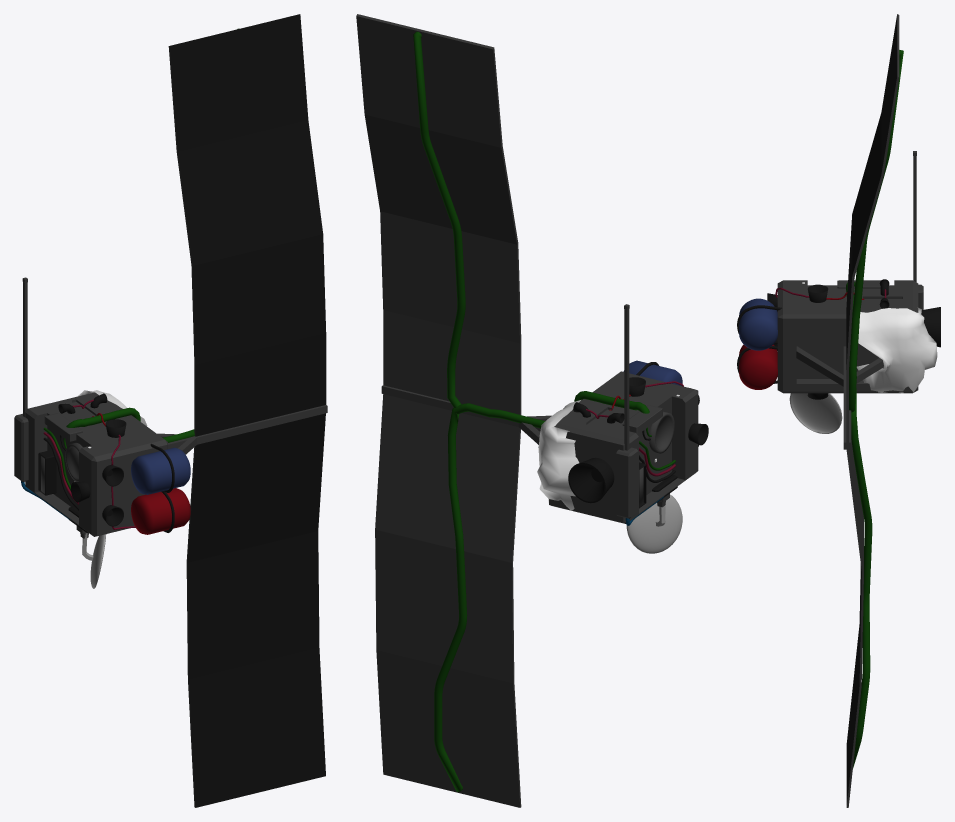
File: Beacon.fbx
3 renders of one model, left to right at view 1: azimuth 30°, elevation 25°; view 2: azimuth 150°, elevation 25°; view 3: azimuth 270°, elevation 25°, orthographic. The views are drawn at different scales.
Visible parts, largest first — view 1: Cube; view 2: Cube; view 3: Cube.
Boxes of the visible parts, left/top/right/bottom form: Cube: left=14, top=14, right=327, bottom=807; Cube: left=356, top=14, right=708, bottom=807; Cube: left=737, top=14, right=940, bottom=807.
Size of the model in its own units: 724 by 1857 by 469.
